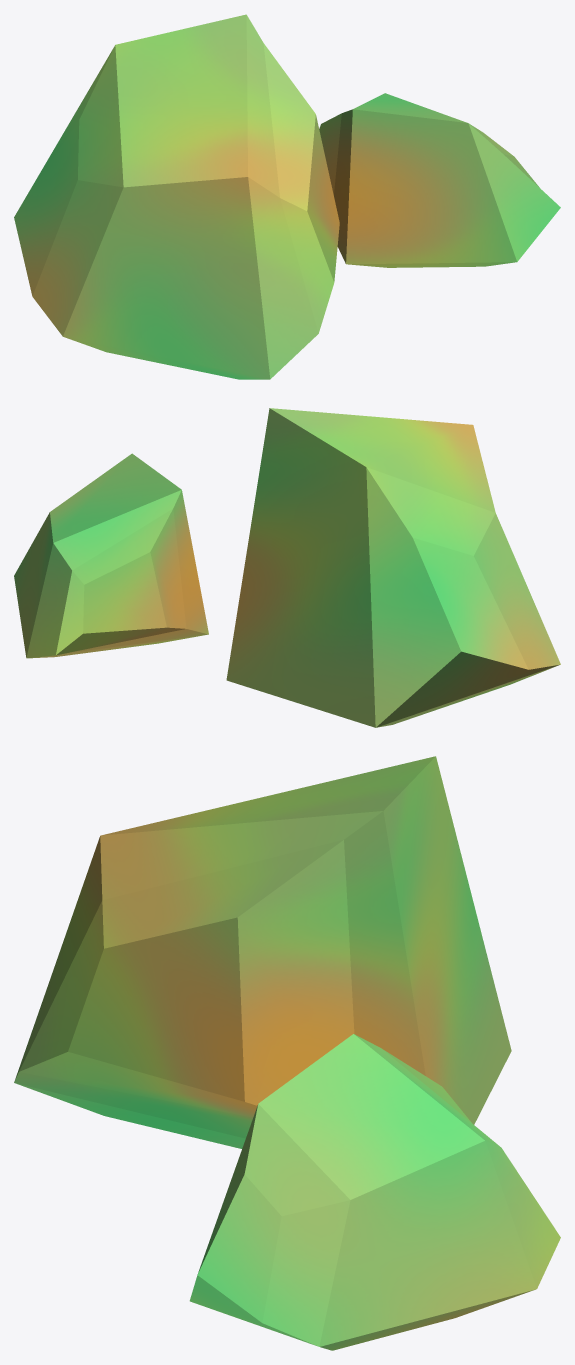
The model's file is crystal_11.glb.
3 views of the same model, one above another, from view 1: azimuth 30°, elevation 25°; view 2: azimuth 150°, elevation 25°; view 3: azimuth 270°, elevation 25° (orthographic). The views are drawn at different scales.
Visible parts, largest first — view 1: crystal_11; view 2: crystal_11; view 3: crystal_11.
Boxes of the visible parts, box(x1,y1,x2,y2) form: crystal_11: box(14, 14, 560, 379); crystal_11: box(14, 408, 560, 727); crystal_11: box(14, 756, 560, 1350).
Size of the model in its own units: 2.17 by 1.13 by 1.44.
Materials: 1 (1 with a texture image).
